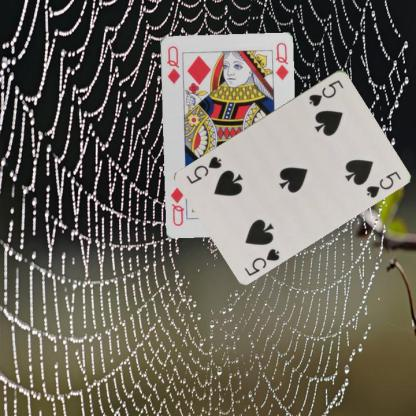5s: (242, 245, 281, 276), (306, 77, 345, 107)
Qd: (164, 43, 181, 85)
